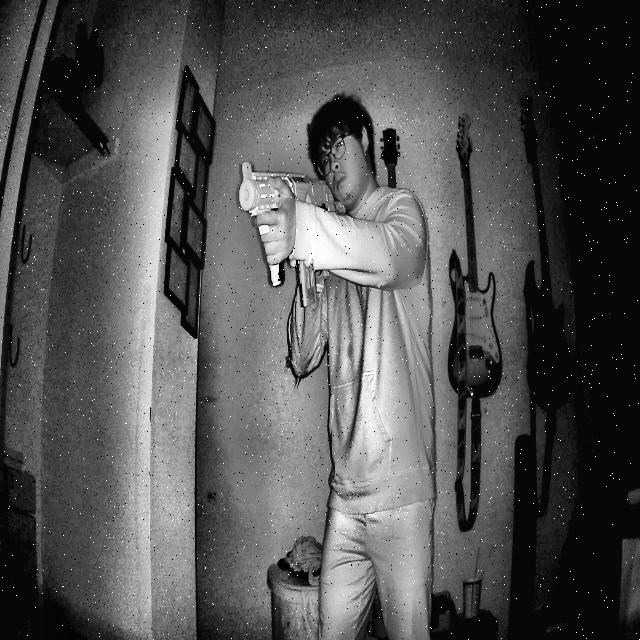Nerf_Blaster: (228, 131, 354, 320)
